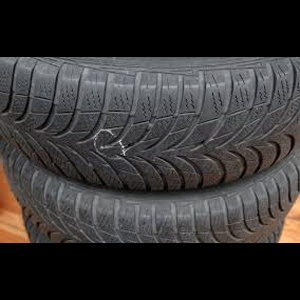tire: (1, 57, 298, 191), (1, 141, 300, 243)
